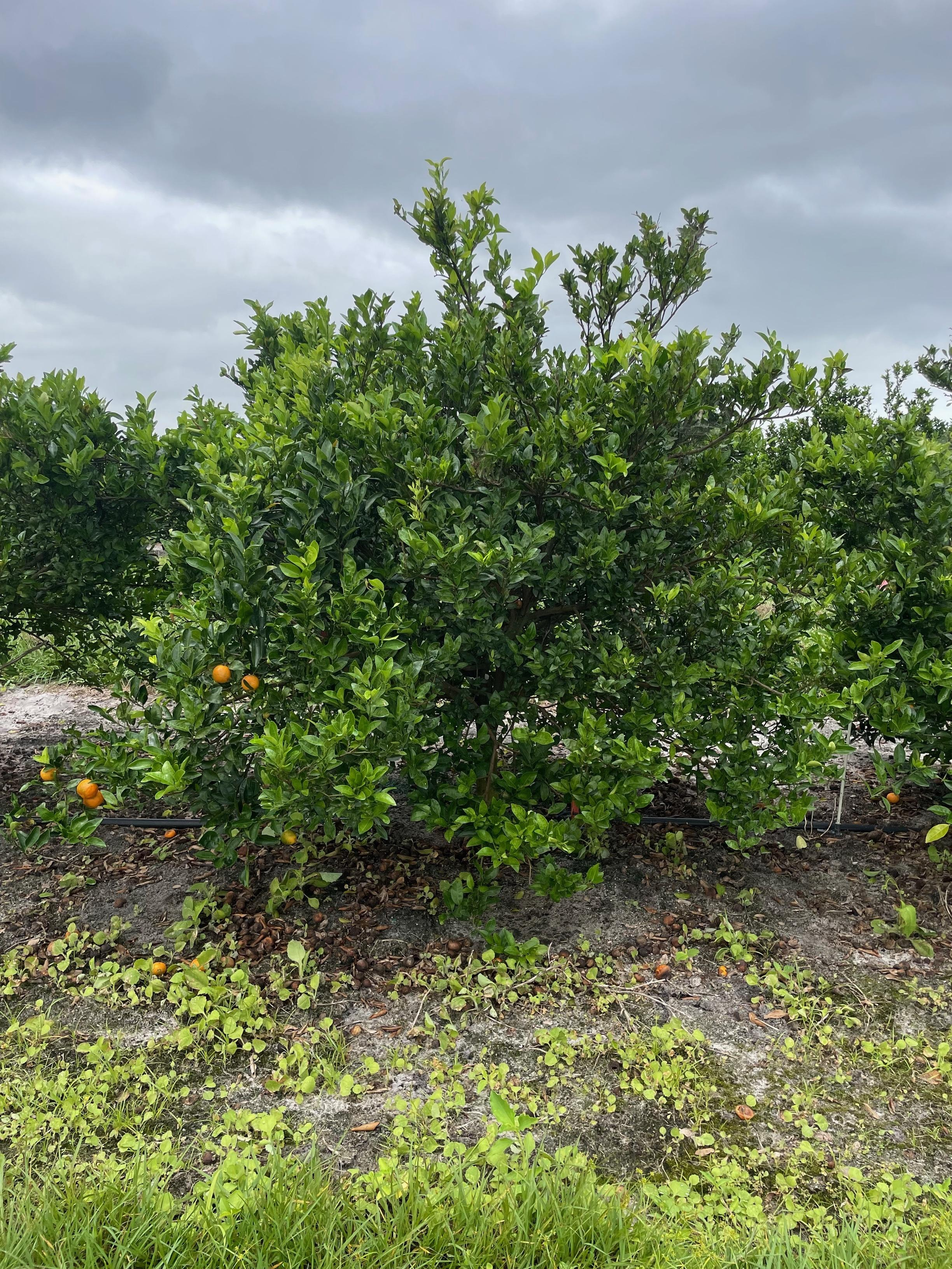fruit_on_ground: (76, 777, 100, 799), (210, 663, 233, 685), (240, 673, 261, 695), (38, 763, 61, 783), (278, 827, 299, 848)
fruit_on_tree: (731, 1101, 757, 1124), (149, 958, 169, 978), (653, 962, 674, 980), (219, 952, 237, 970), (445, 938, 462, 955), (187, 957, 206, 972), (886, 791, 901, 805), (162, 827, 178, 839)
